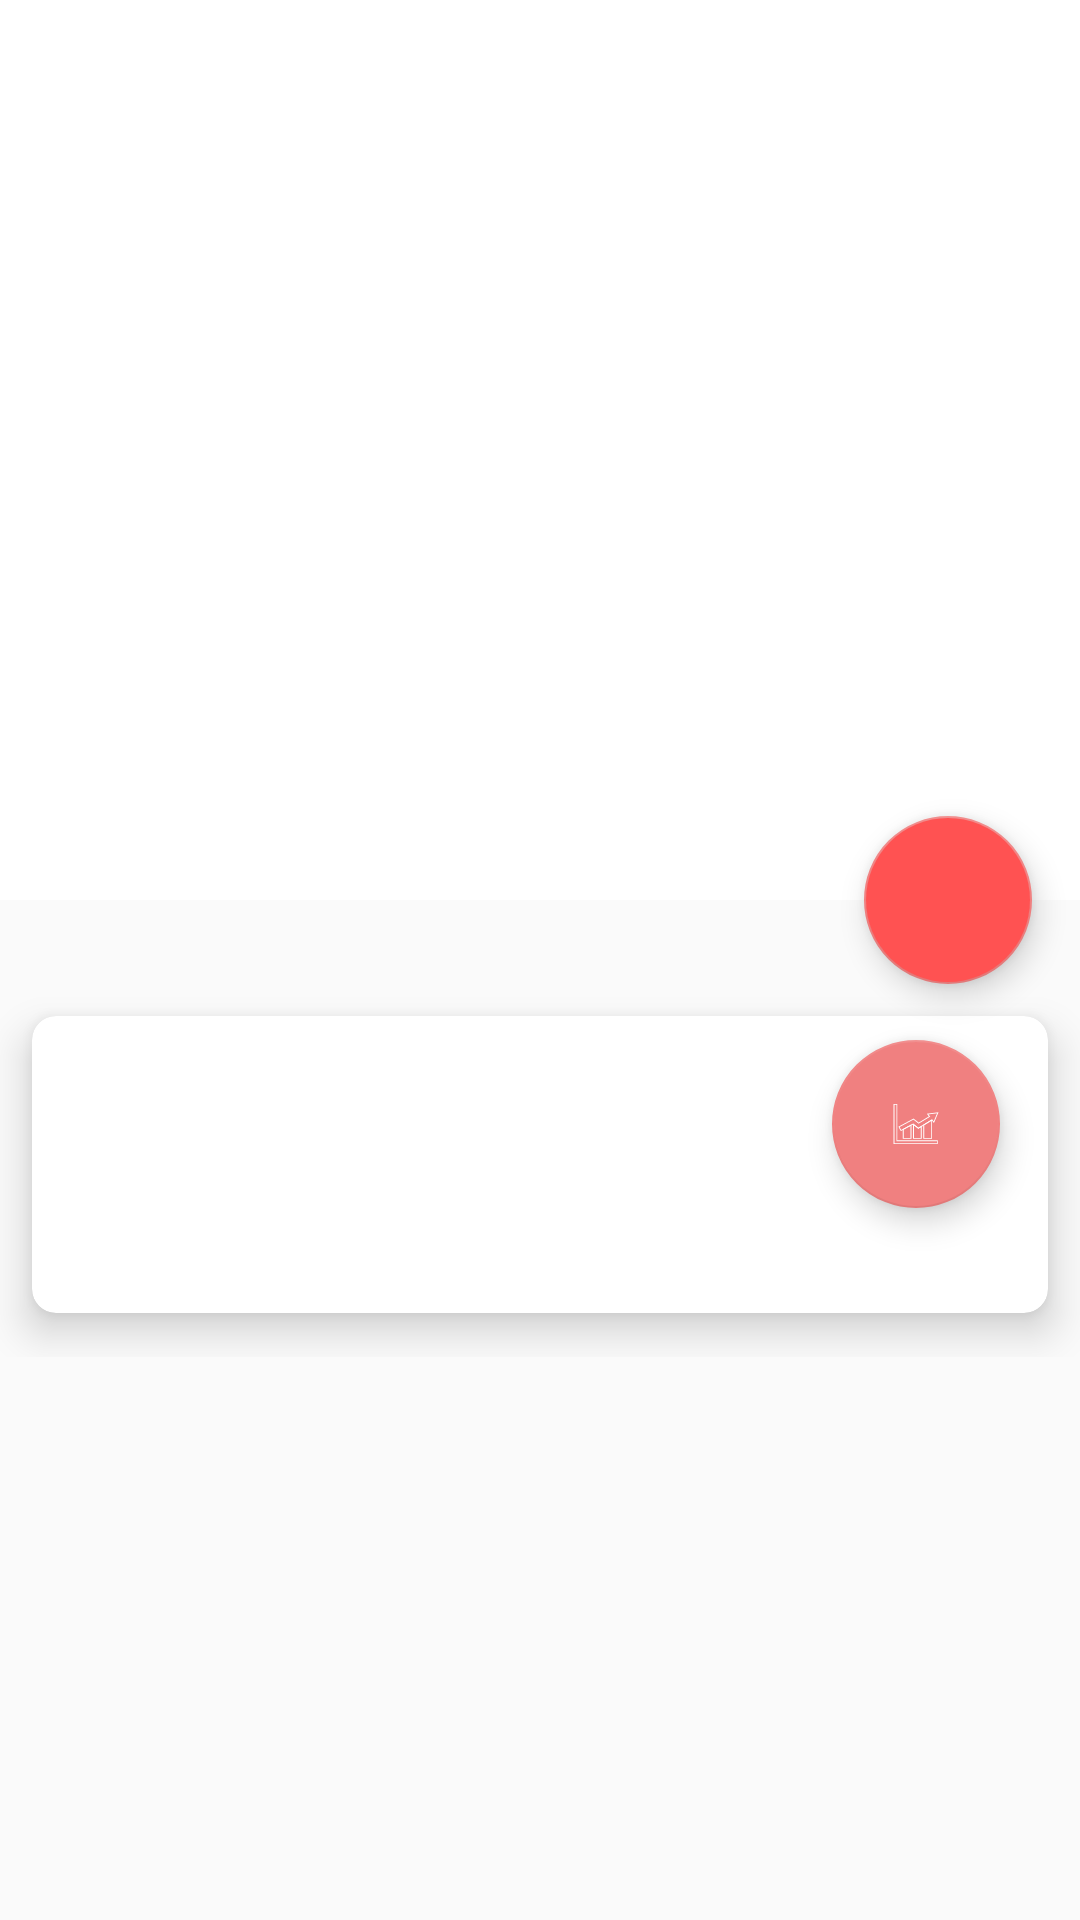

Icon click points for this 1080x1920 phone screenshot, format [x,y]:
stats: [916,1124]
